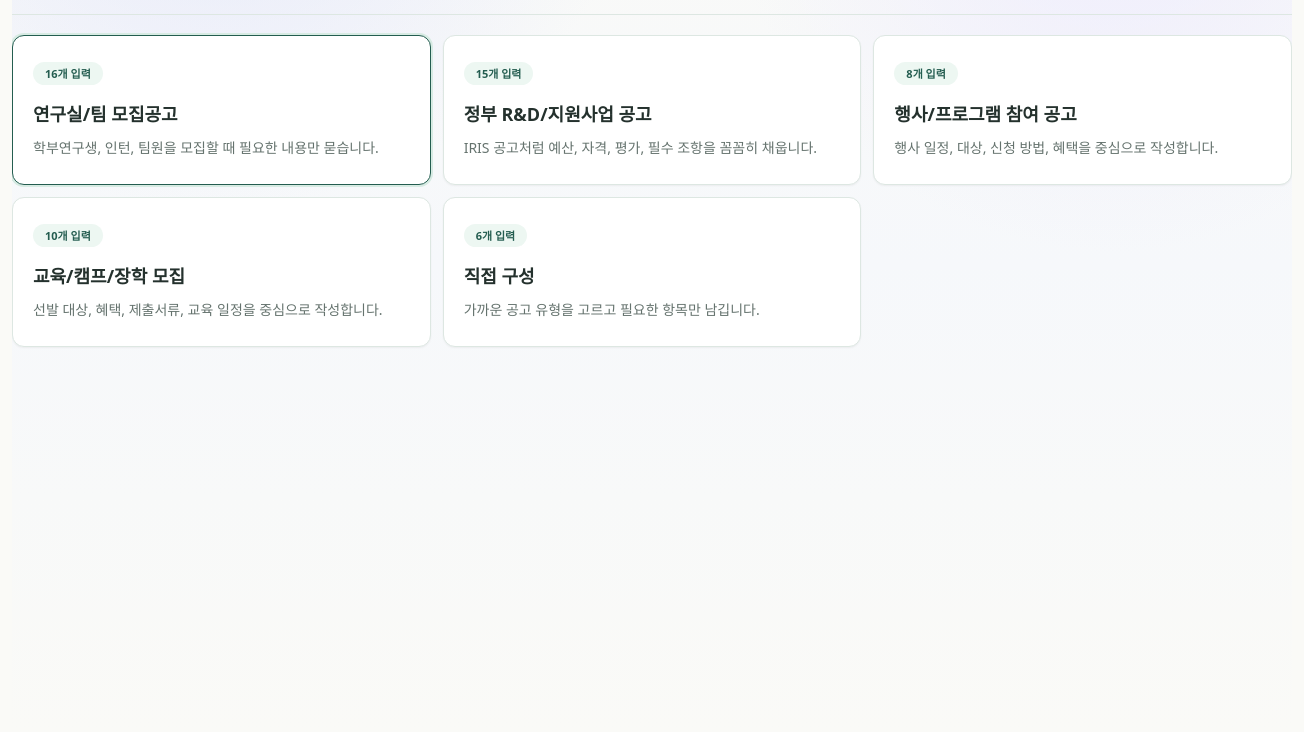
Test: AgencyStudio › shows structure chips and loads IRIS references after type and direction
Click the button with test id "studio-recipe-lab_recruitment". click: (68, 74)
box: [12,35,431,185]
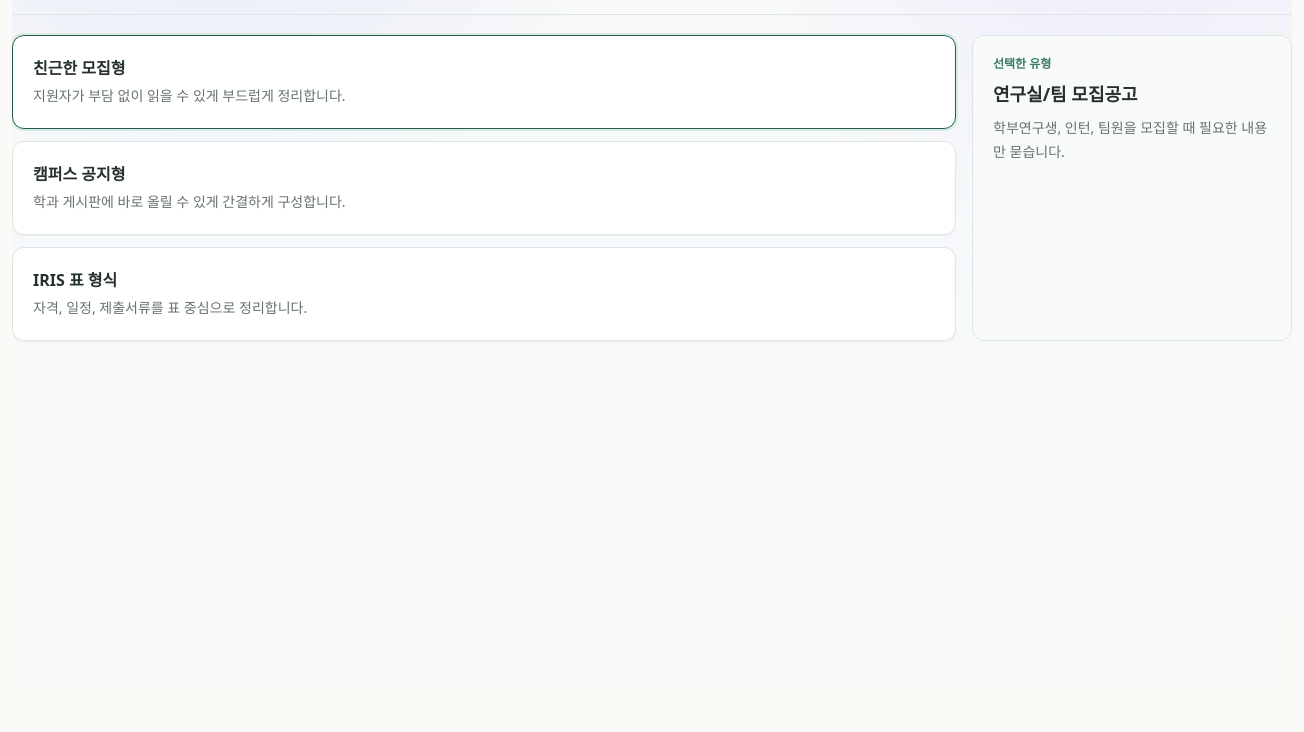
Click the button with test id "studio-direction-friendly_recruitment". click: (79, 68)
box: [12,35,956,129]
(page scrolled)
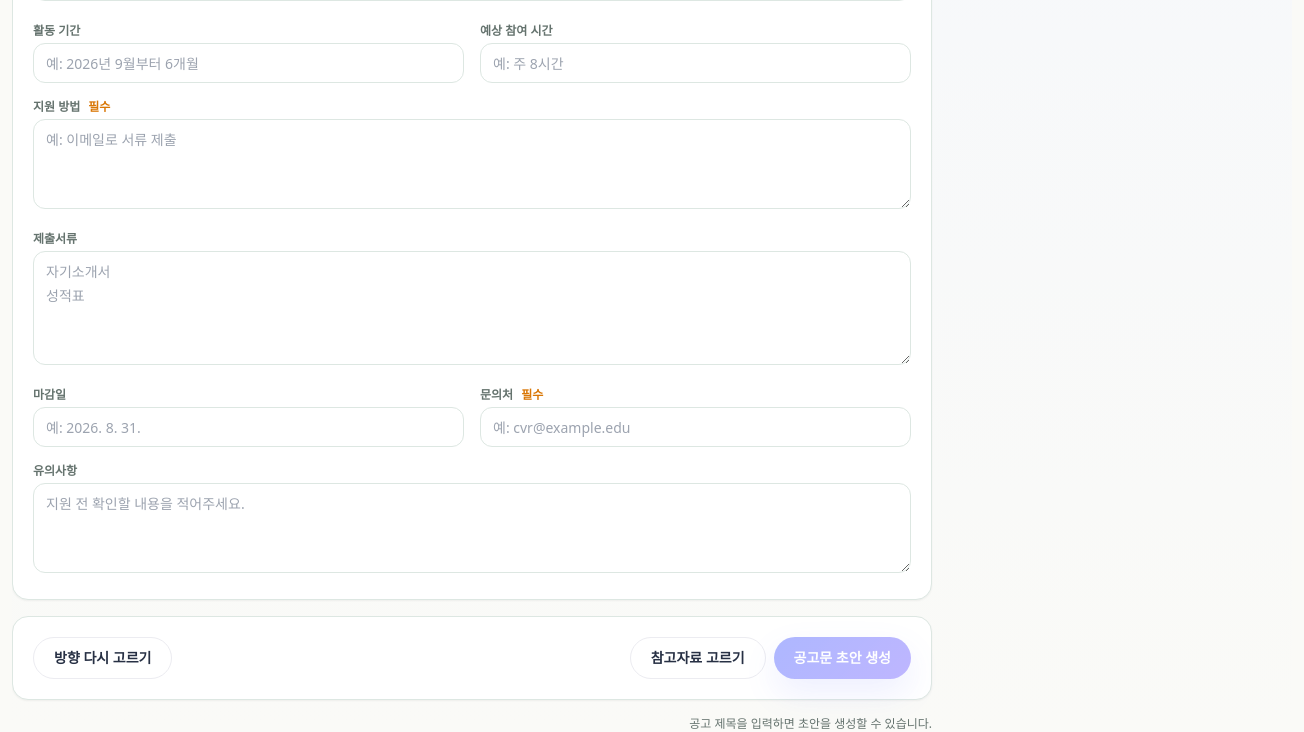
Click the button with test id "studio-next-references". click: (698, 658)
box: [630,637,766,679]
(page scrolled)
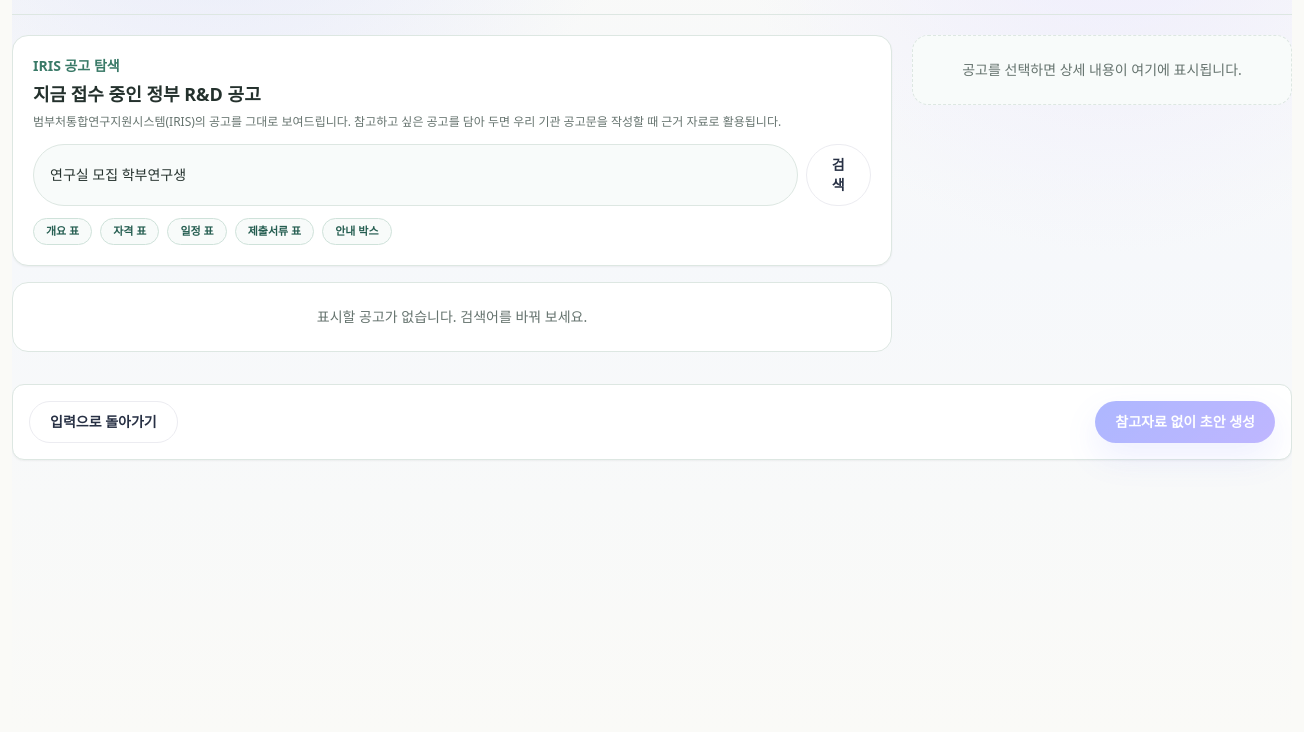
Check: the element with test id "iris-notice-feed" is shown, box [12,35,1292,368]
Check: the text "자격 표" is shown, box [100,218,159,244]
Check: the text "일정 표" is shown, box [168,218,227,244]
